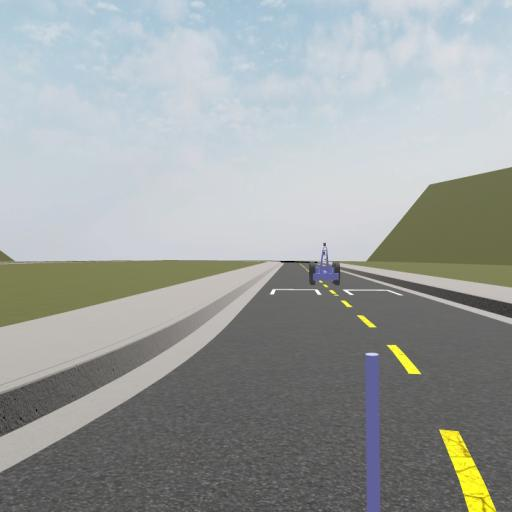ERP-42: (308, 244, 341, 285)
